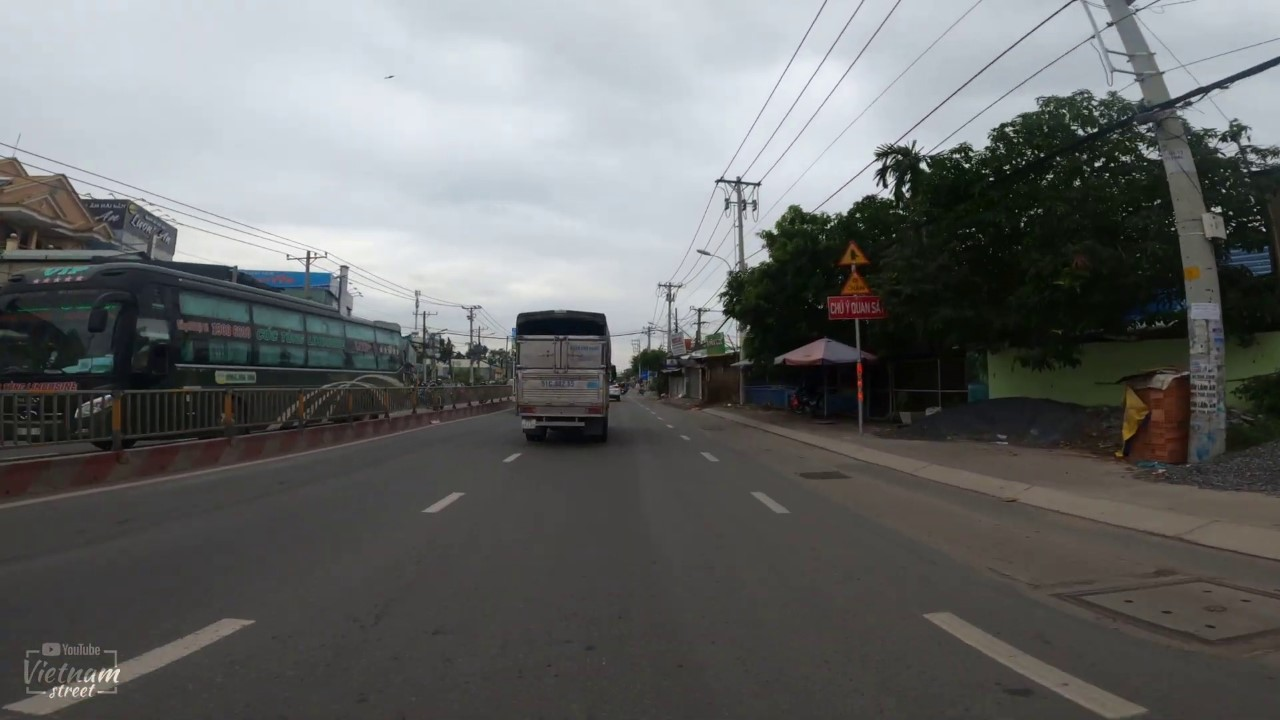di_cham: (839, 269, 872, 296)
giao_khong_uu_tien_phai: (838, 241, 870, 267)
